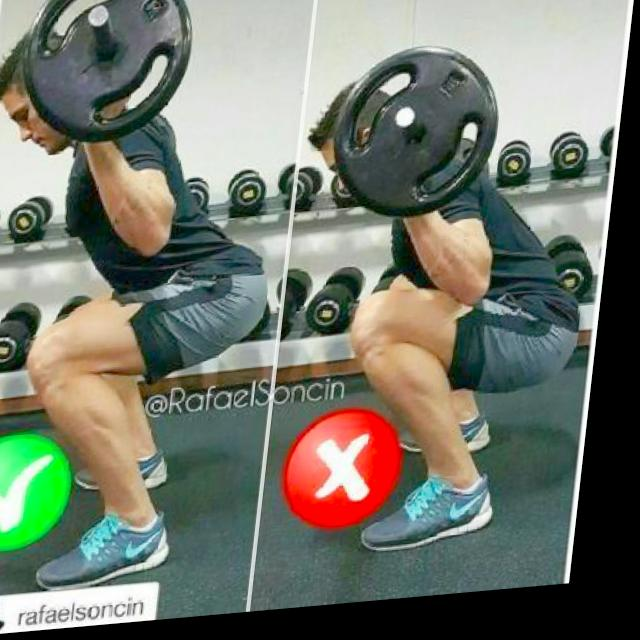barbell: (329, 43, 514, 238), (13, 1, 204, 156)
